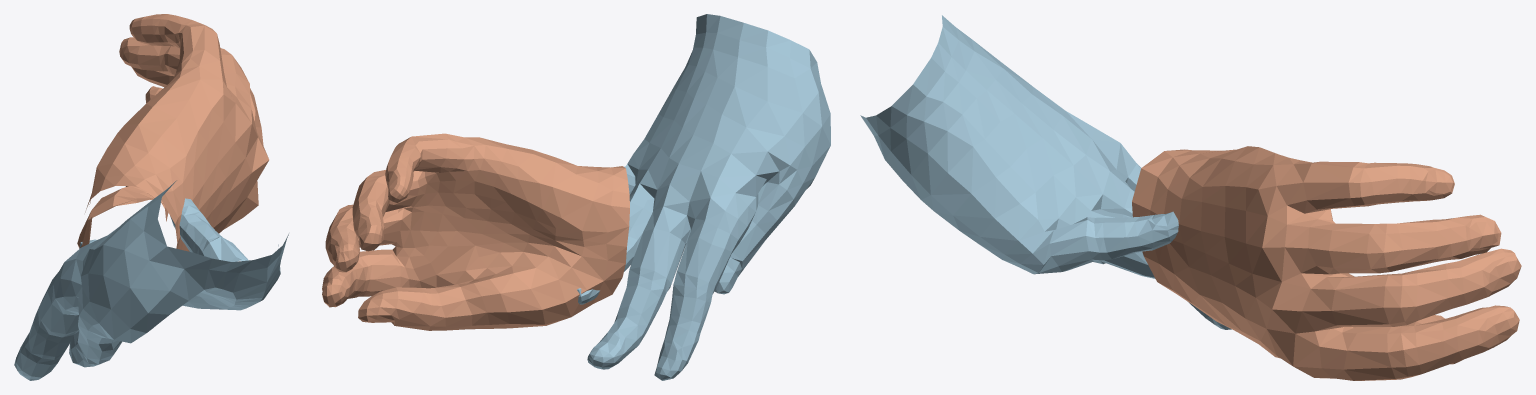
Rendered from frame_063.glb.
3 views of the same model, side by side, from view 1: azimuth 30°, elevation 25°; view 2: azimuth 150°, elevation 25°; view 3: azimuth 270°, elevation 25° (orthographic). The views are drawn at different scales.
Parts seen in each view (by area): view 1: world; view 2: world; view 3: world.
Part boxes in pixels (box(x1,y1,x2,y2)): world: box(14, 14, 288, 380); world: box(322, 14, 830, 380); world: box(860, 15, 1521, 380).
Size of the model in its own units: 0.1513 by 0.1221 by 0.226.
